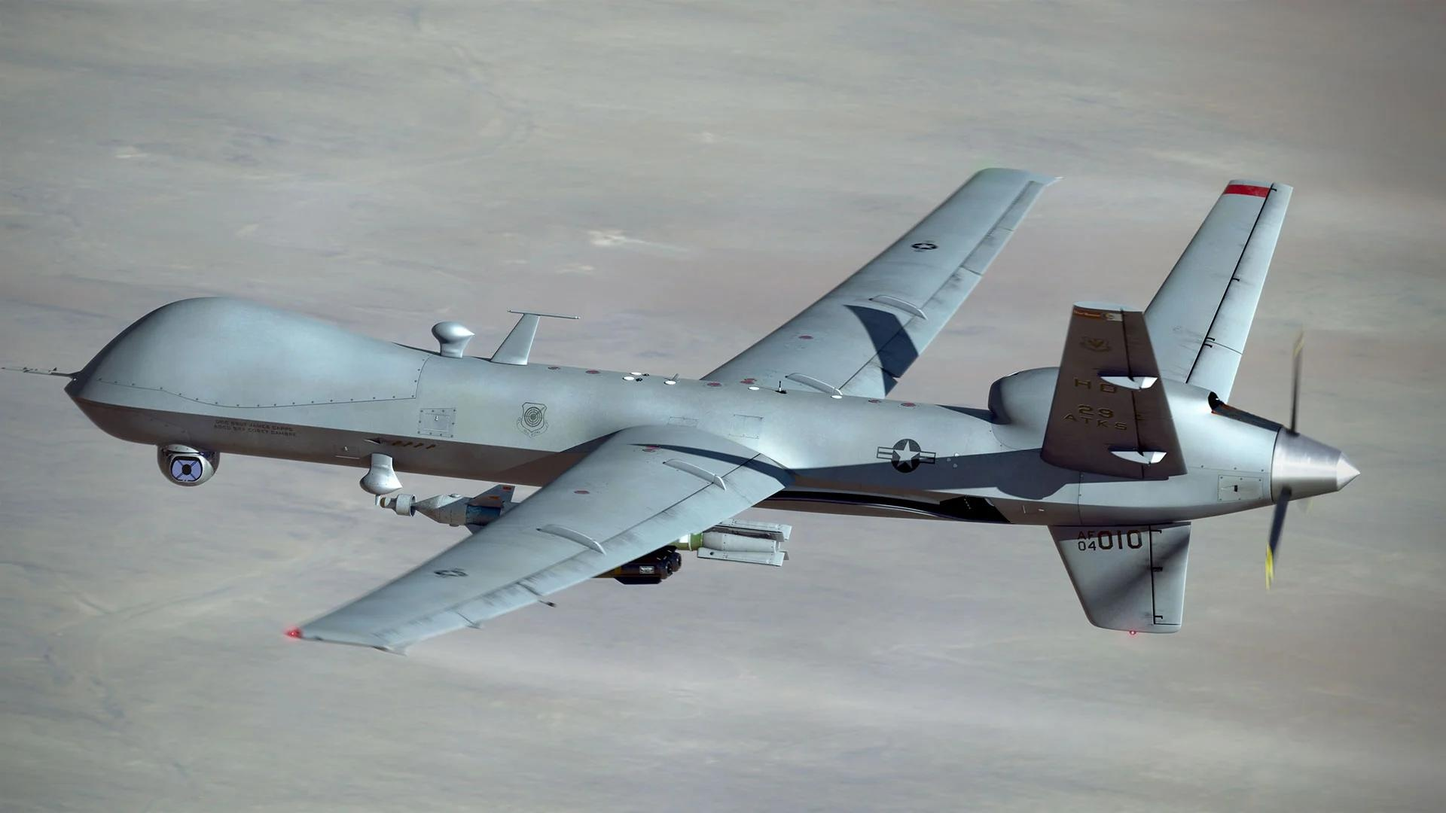aircraft: (31, 166, 1385, 656)
